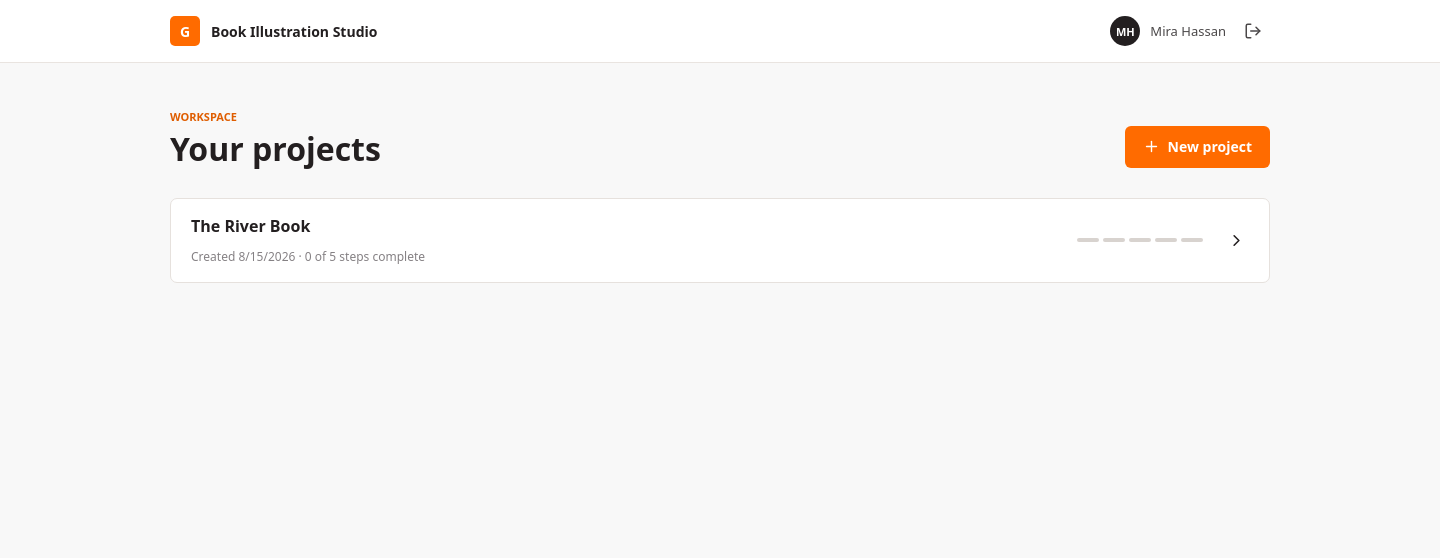
Test: App › restores a session and opens a project detail
Click the button "The River Book Created 8/15/2026 · 0 of 5 steps complete".
click(251, 226)  # box [170,198,1270,283]
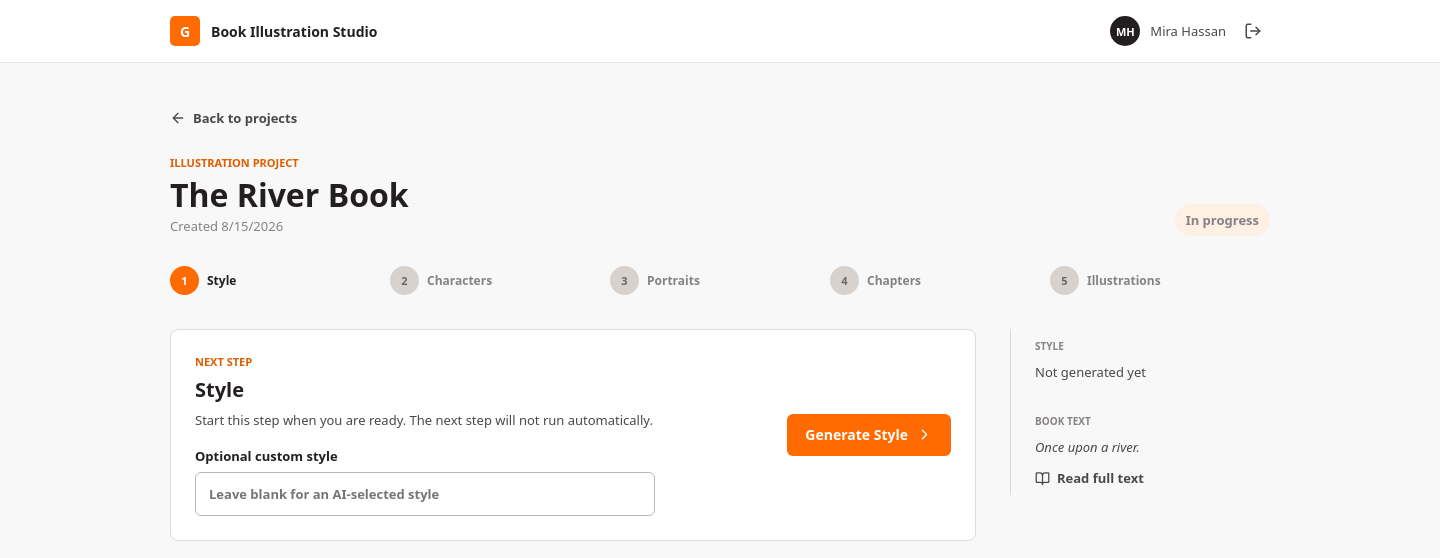
Now the text "Next step" is shown, box [195,354,252,369]
Now the button "Generate Style" is shown, box [787,414,951,456]
Now the text "Once upon a river." is shown, box [1035,438,1140,456]
